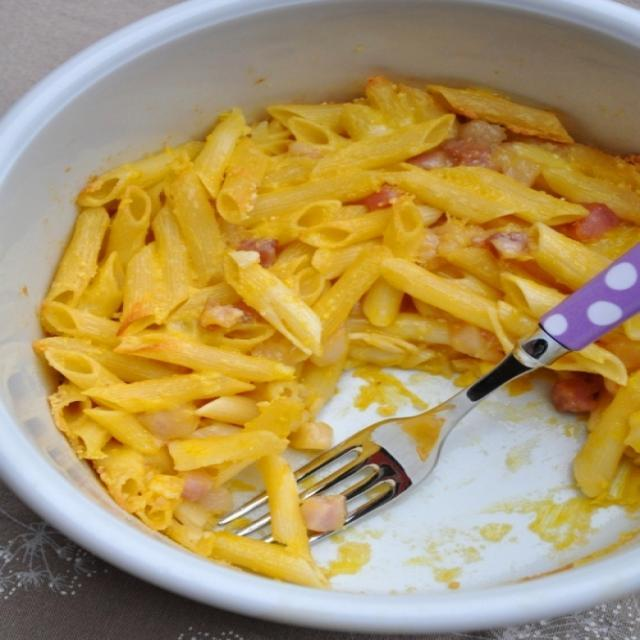Pasta with carbonara sauce: (50, 44, 631, 632)
